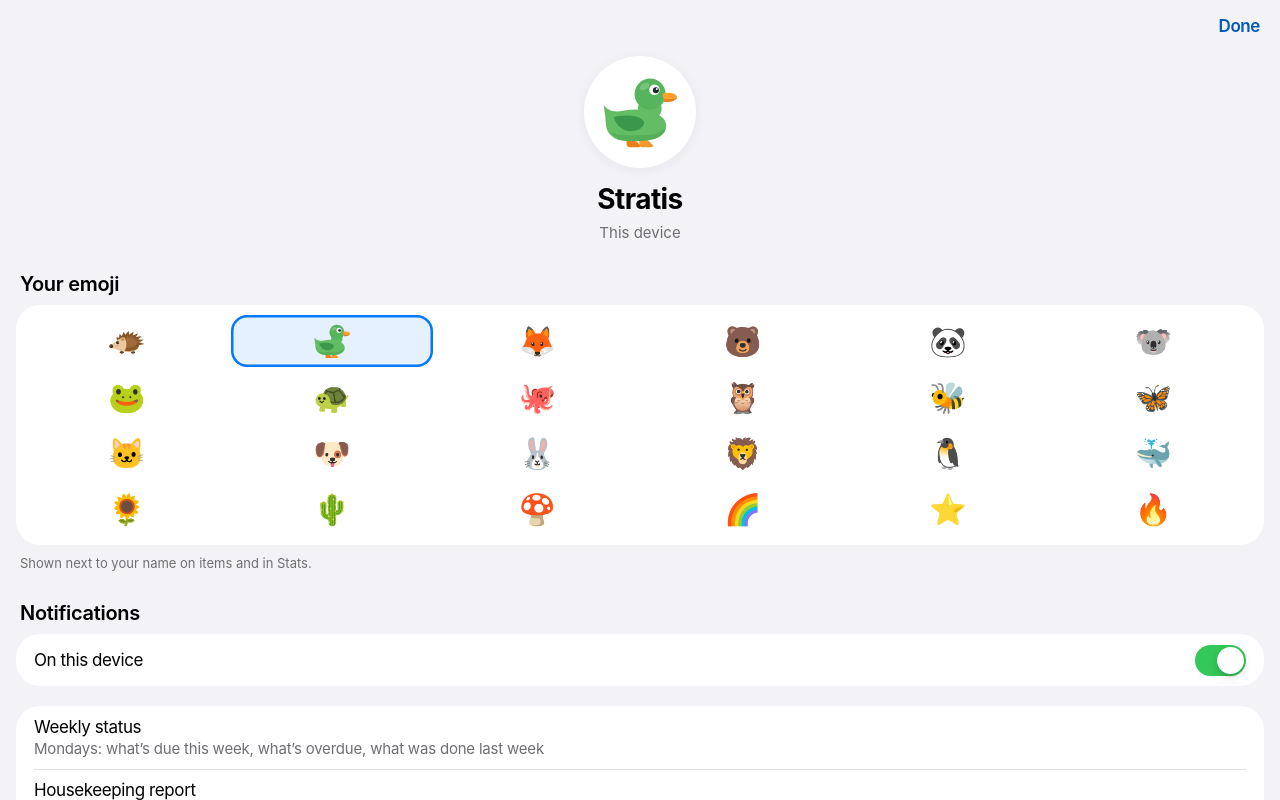
Profile > Notifications in server mode: this device › turns it off for this device
This screenshot has width=1280, height=800.
Expected: the checkbox labelled "Weekly status" is enabled, [16, 706, 1264, 769]
Click the switch named "Notifications on this device": (1220, 660) [1195, 644, 1246, 676]
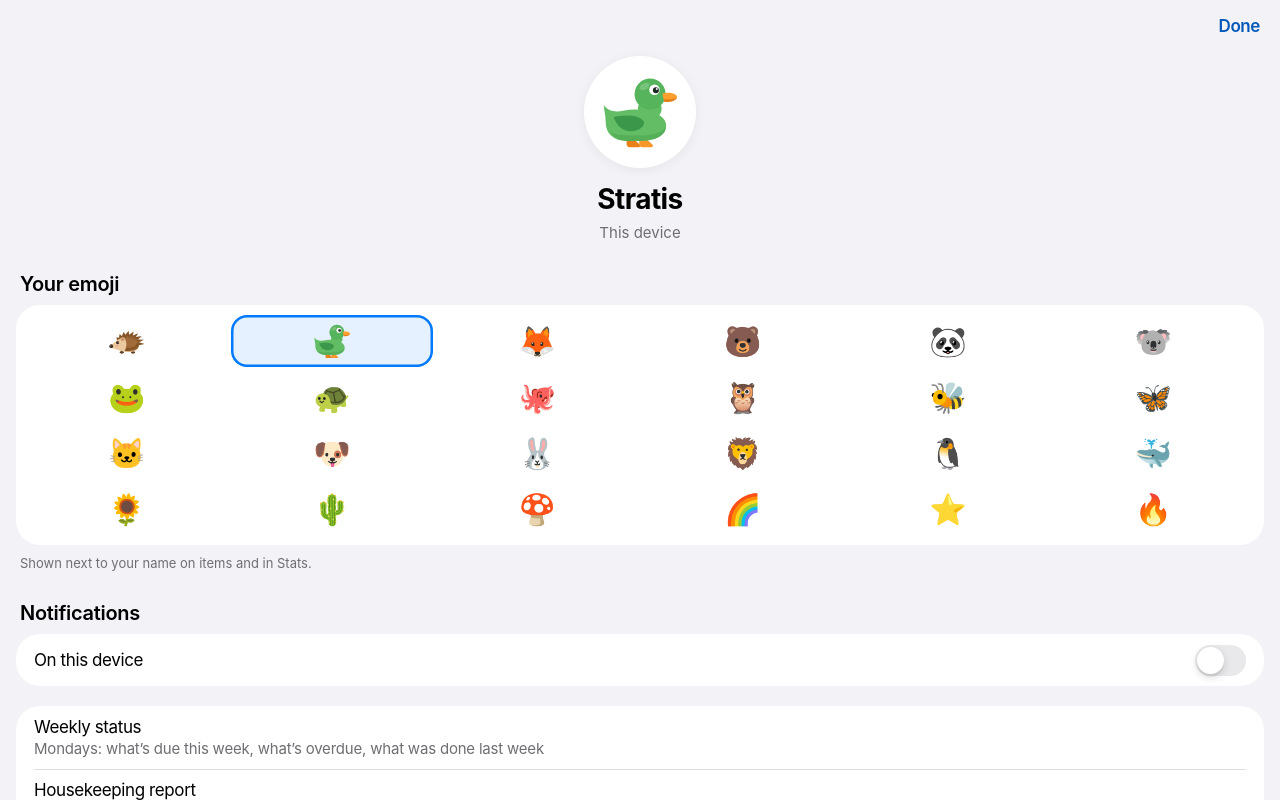
Expected: the switch named "Notifications on this device" is not checked, [1195, 644, 1246, 676]
